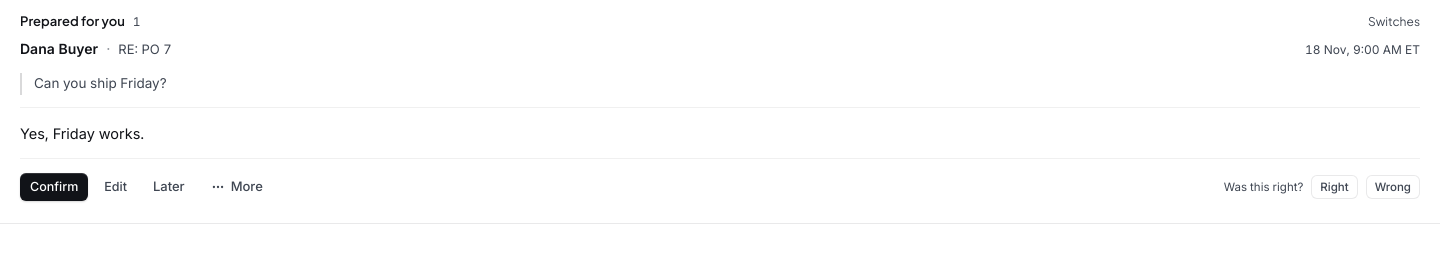
Test: the queue on Home and its Switches tab › a send the server refused stays on the card to confirm again
Expected: the text "Dana Buyer" is shown, [20, 37, 98, 60]
Click the button "Confirm".
click(54, 187)  # box [20, 173, 88, 201]
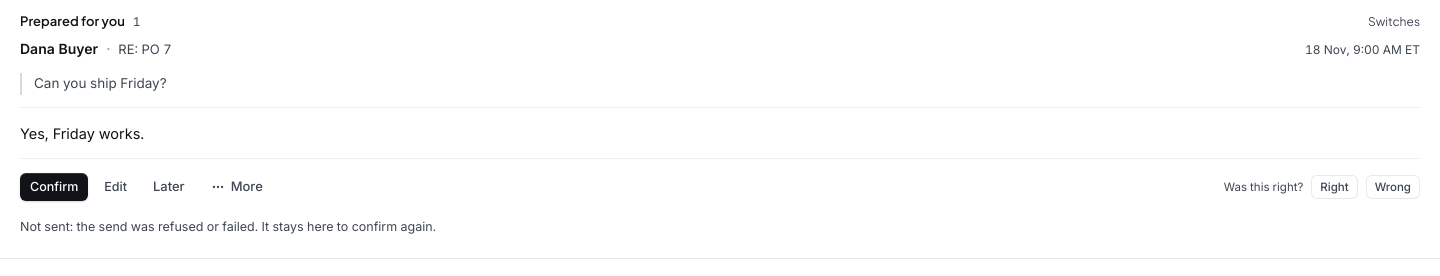
Expected: the text "Yes, Friday works." is shown, [20, 107, 1420, 146]
Result: the text "Not sent: the send was refused or failed" is shown at [20, 219, 436, 234]
